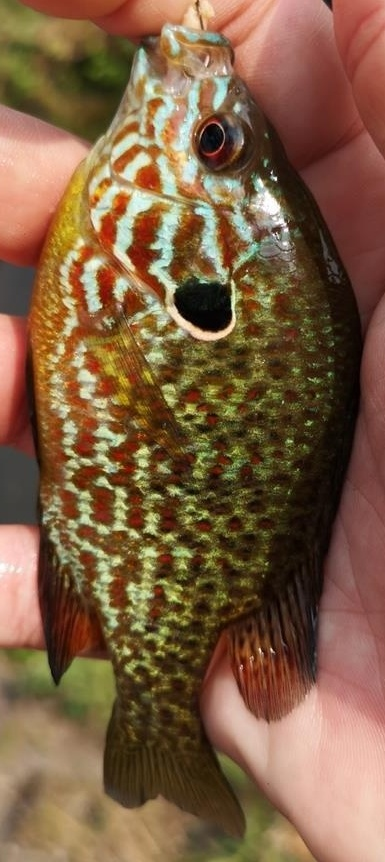Lepomis gibbosus: (20, 20, 365, 842)
